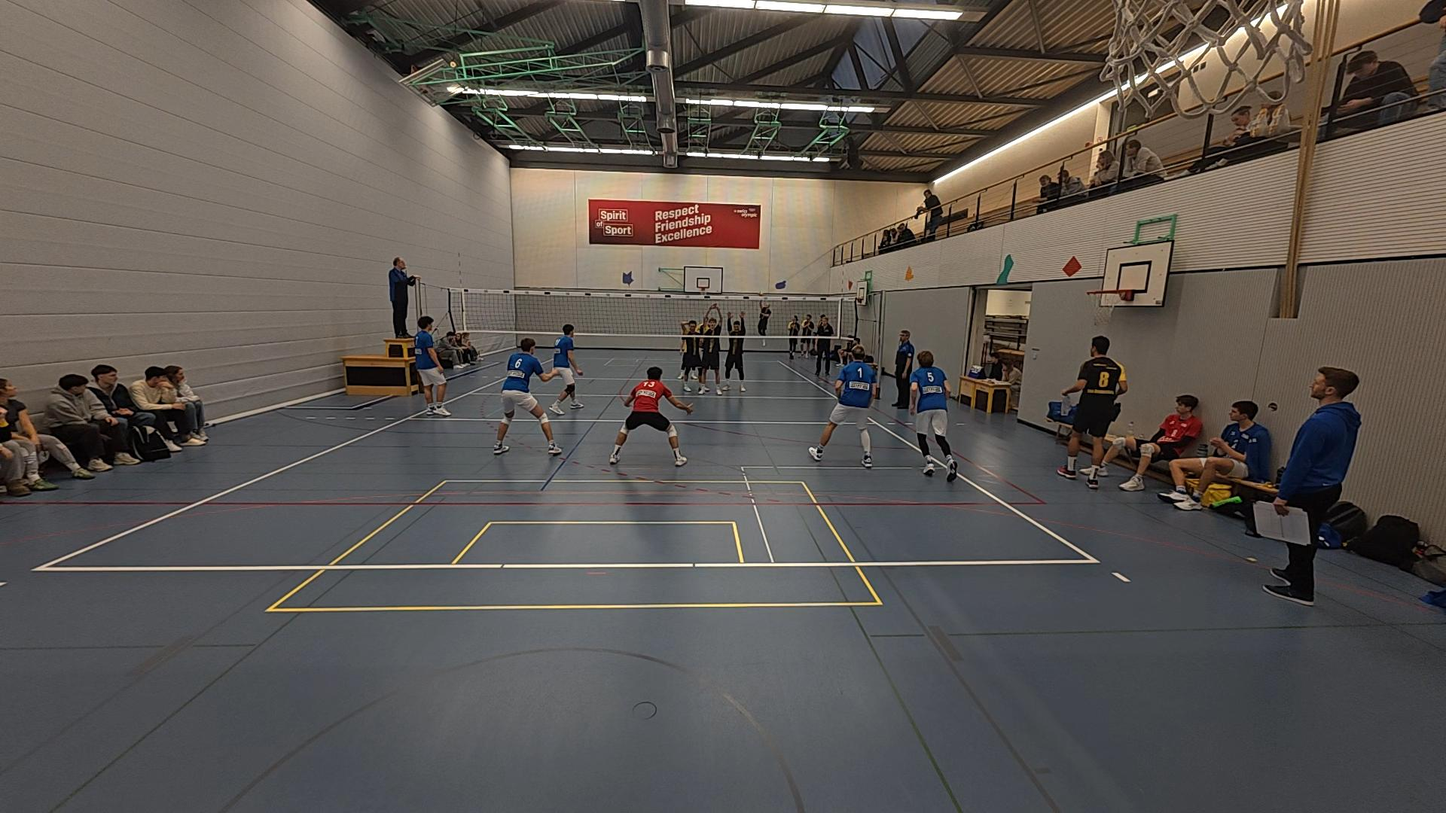Player: (808, 343, 879, 467), (608, 366, 691, 467), (493, 337, 563, 455), (908, 350, 958, 483), (411, 315, 452, 418), (544, 324, 583, 413), (695, 306, 722, 394), (721, 309, 748, 394), (677, 315, 702, 393)
Serve: (755, 294, 772, 347)
ball: (757, 290, 764, 297)
